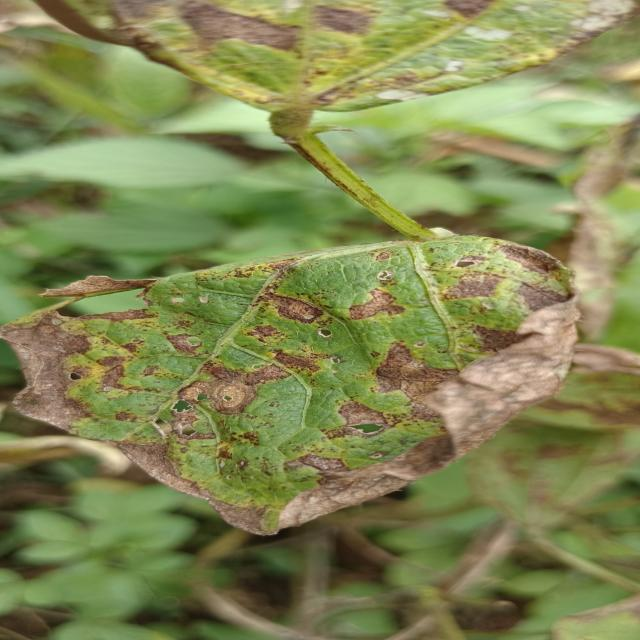Black gram_leaf spot: (0, 225, 598, 542), (39, 0, 631, 129)
